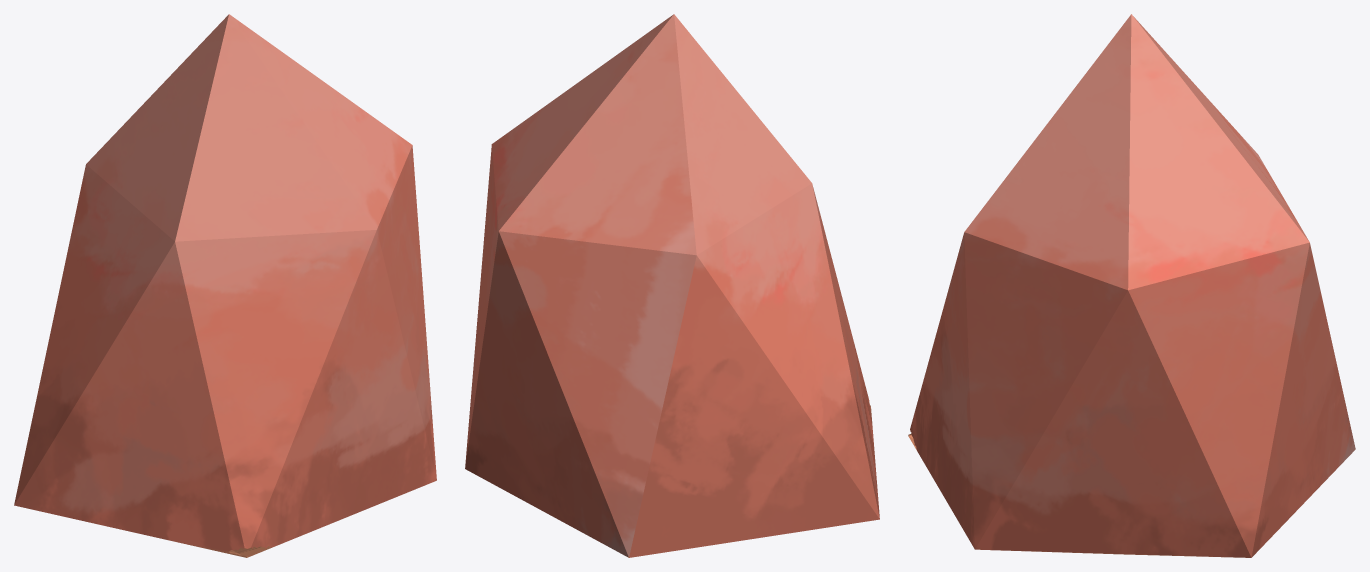
File: mushroom04.fbx
3 views of the same model, side by side, from view 1: azimuth 30°, elevation 25°; view 2: azimuth 150°, elevation 25°; view 3: azimuth 270°, elevation 25° (orthographic). The views are drawn at different scales.
Visible parts, largest first — view 1: mushroom04; view 2: mushroom04; view 3: mushroom04.
Boxes of the visible parts, x1,y1,x2,y2 form: mushroom04: [14, 14, 436, 557]; mushroom04: [465, 14, 879, 557]; mushroom04: [908, 14, 1355, 557].
Size of the model in its own units: 46.4 by 59.16 by 43.75.
1 material, 1 textured.
